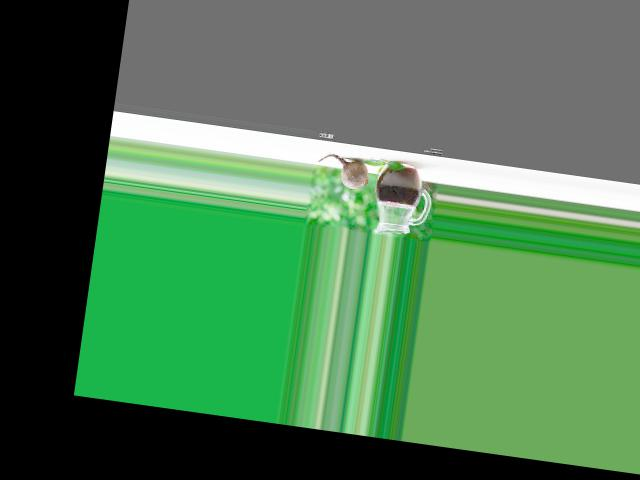beet: (316, 152, 371, 190)
